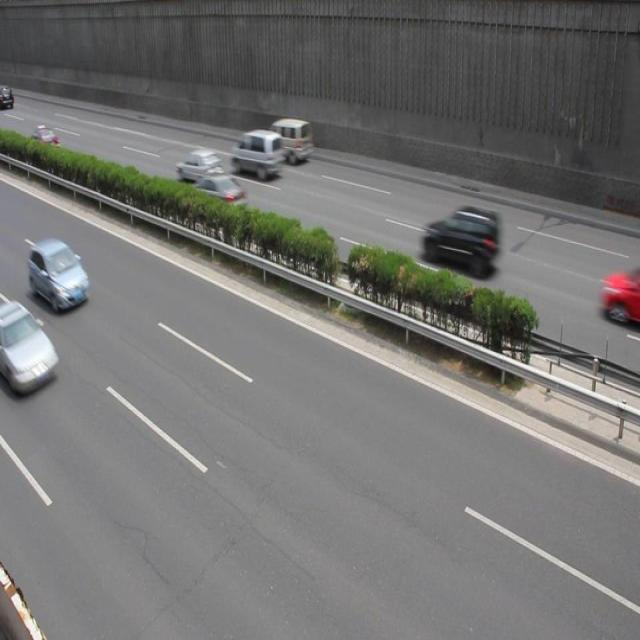car: (1, 299, 60, 396), (422, 205, 498, 279), (29, 240, 91, 312), (185, 173, 248, 225), (177, 148, 222, 184)
truck: (231, 130, 284, 180), (264, 118, 312, 163)
